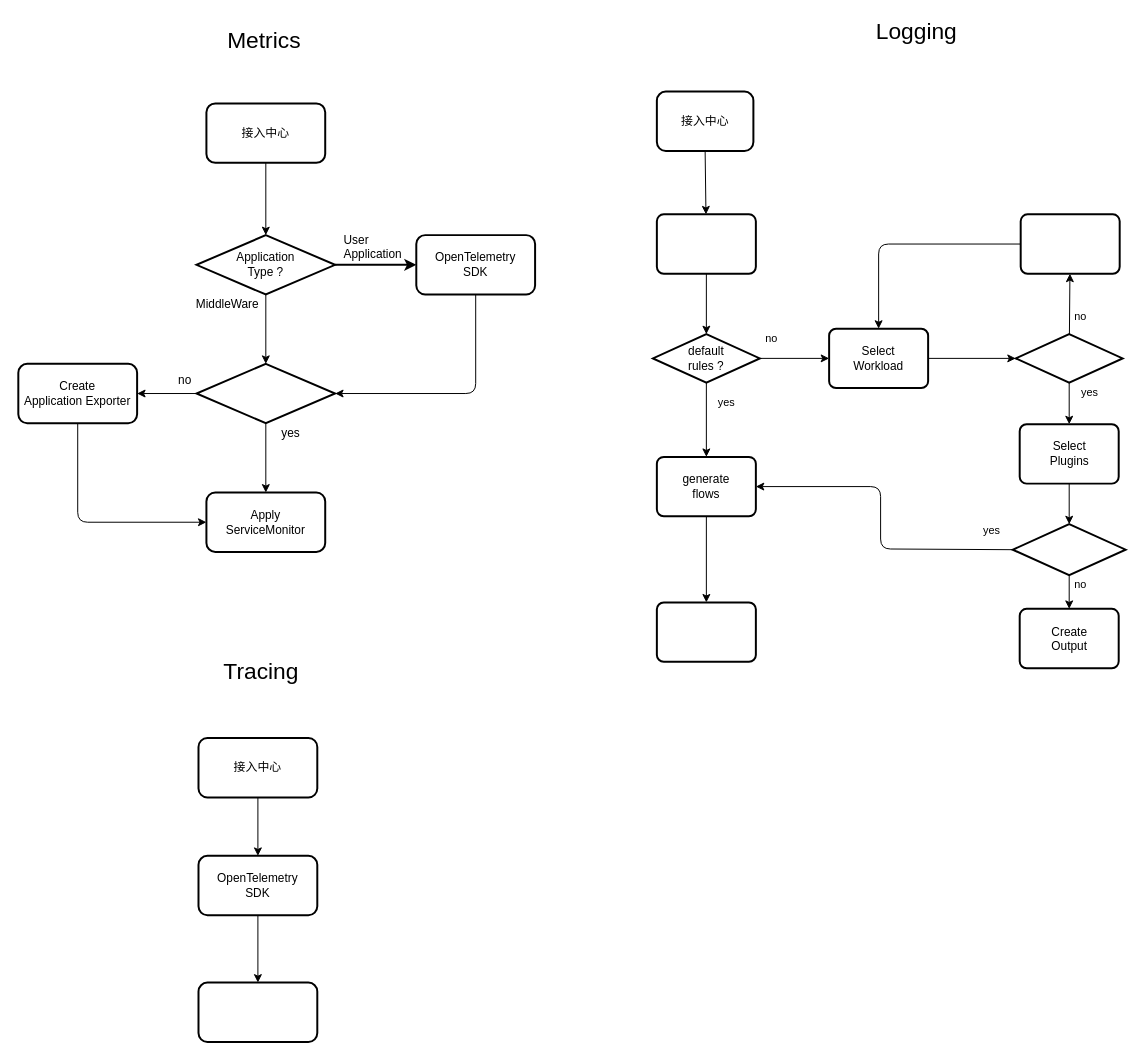
The diagram is 1143 pixels wide and 1059 high, and some of its shapes have lost their labels. The centre of each missing label's shape, as x and y in pixels:
"Apply Flows" belongs at point 705,631.
"common labels？" belongs at point 1068,358.
"Create LogRules" belongs at point 705,243.
"default output ?" belongs at point 1068,549.
"Endpoint" belongs at point 257,1011.
"Endpoint ?" belongs at point 265,393.
"Restart Workloads" belongs at point 1069,243.
